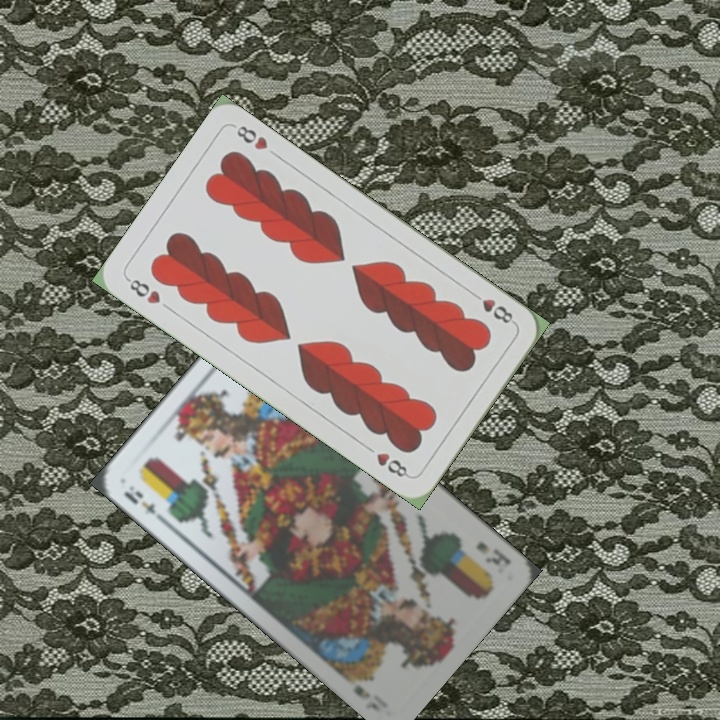EK: (119, 481, 168, 526), (472, 537, 514, 571)
H8: (467, 288, 518, 327), (122, 274, 163, 307)
